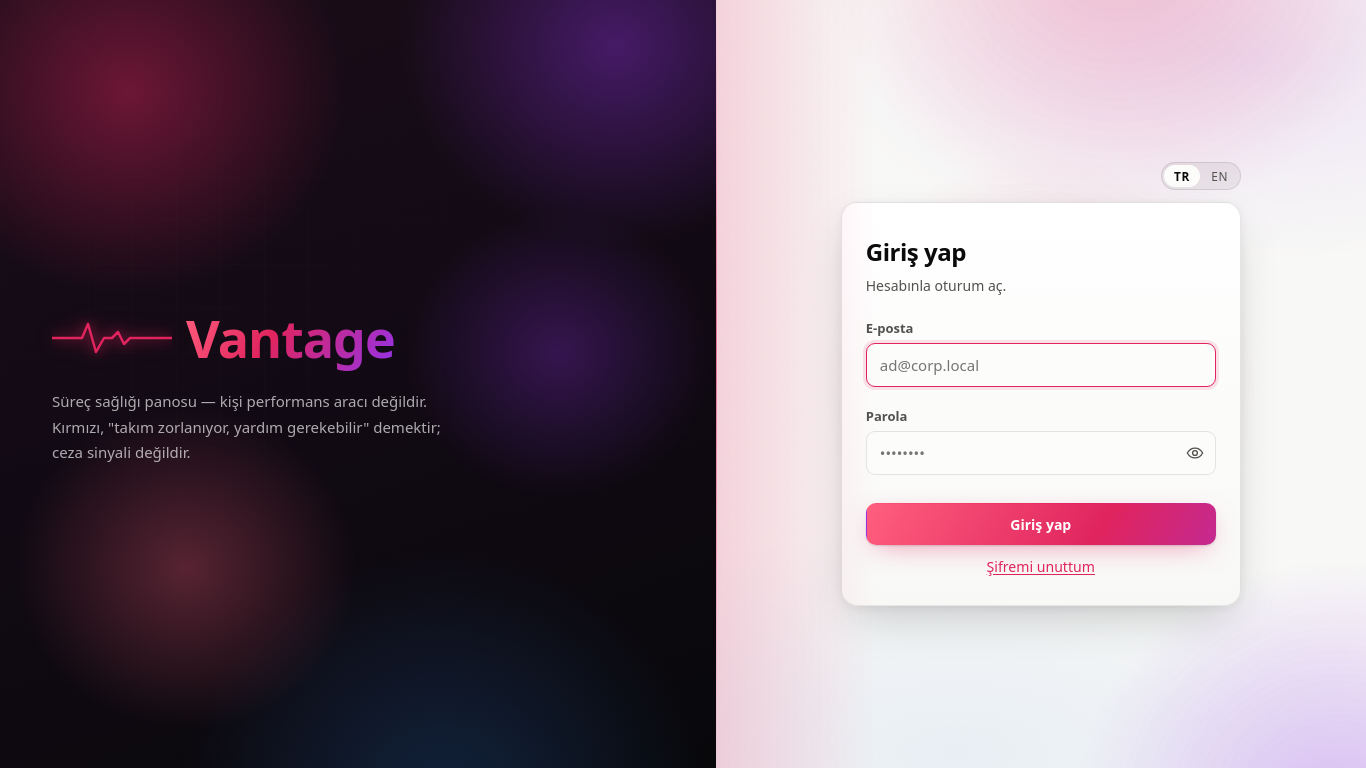
Scenario: giriş ekranı parola görünürlüğü › düğme parolayı gösterir ve tekrar gizler
This screenshot has width=1366, height=768.
Type "gizliparola" into the password field labelled "Parola" at (1041, 453), box [866,431,1216,475]
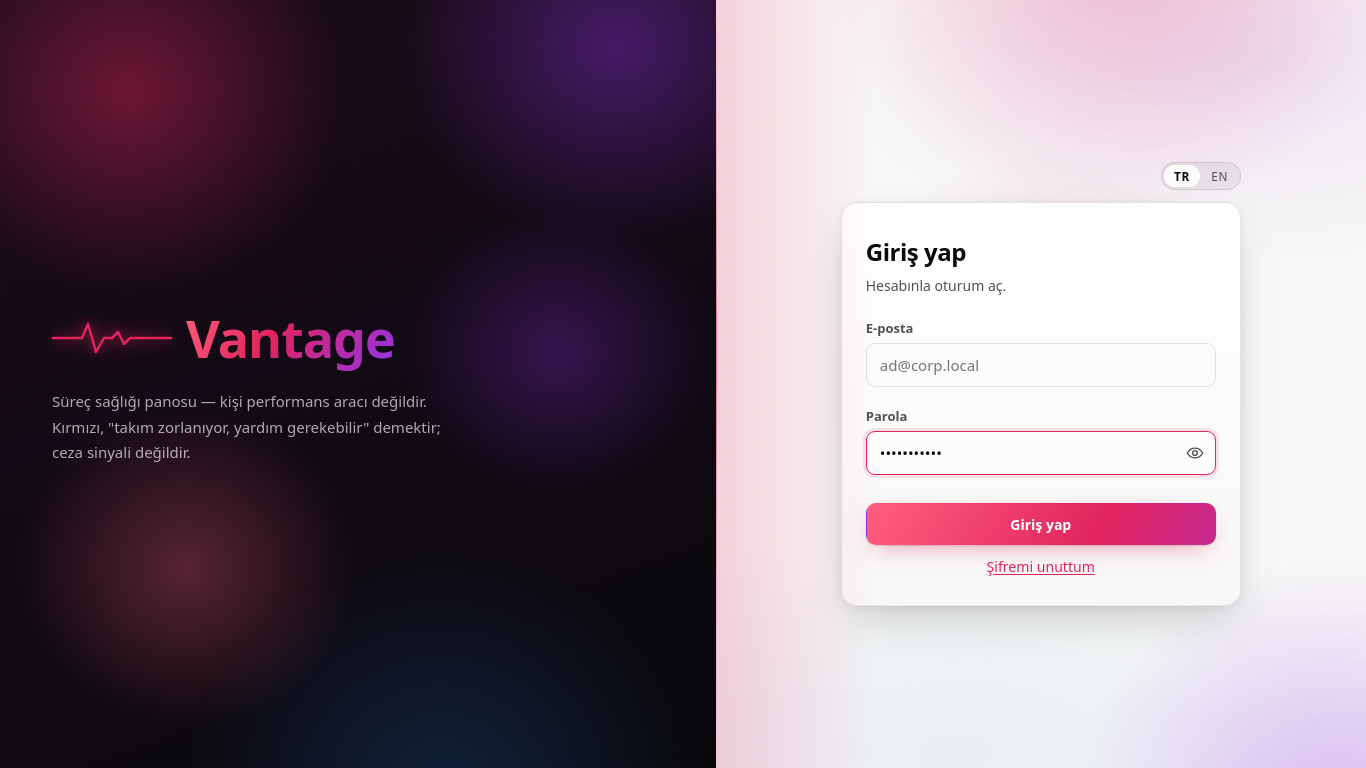
Click the button named "Parolayı göster" at (1195, 453), box [1179,437,1211,469]
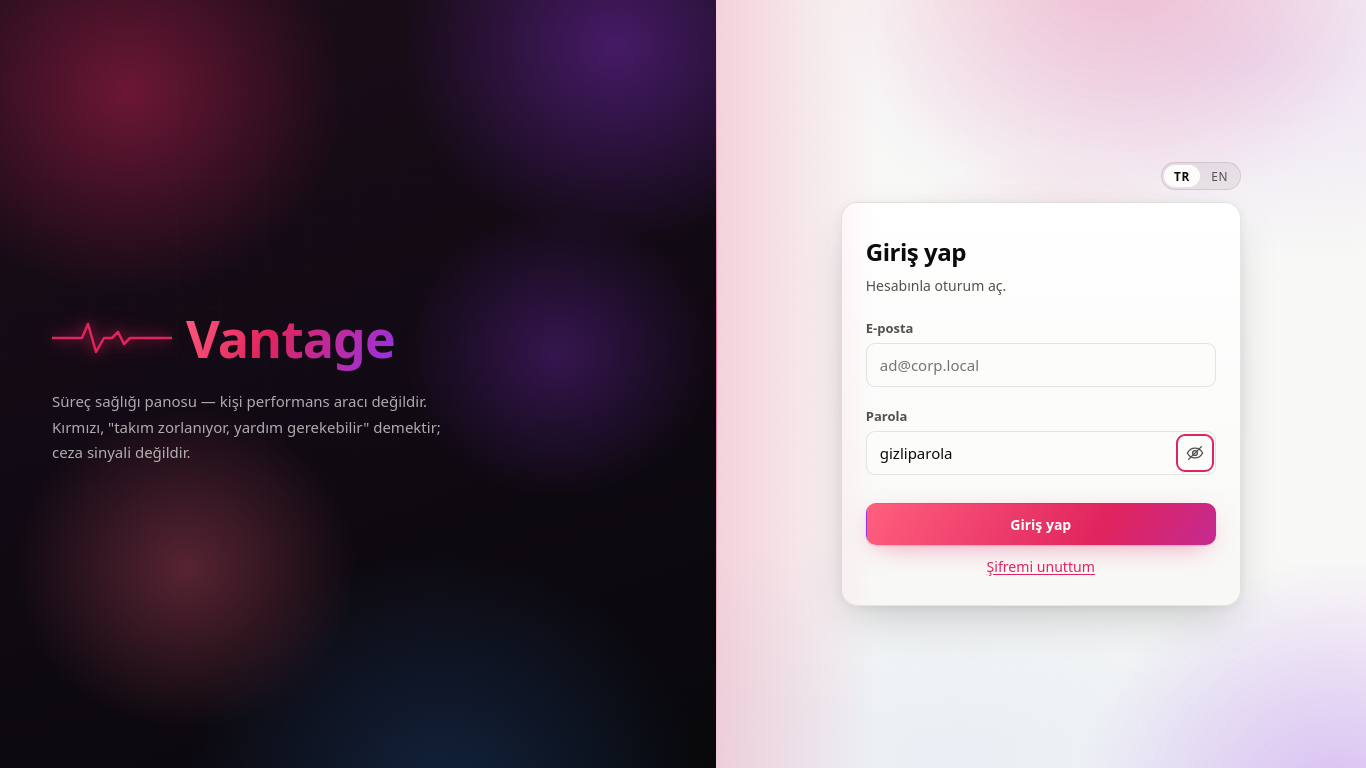
Check: the field labelled "Parola" shows its text, box [866,431,1216,475]
Click the button named "Parolayı gizle" at (1195, 453), box [1179,437,1211,469]
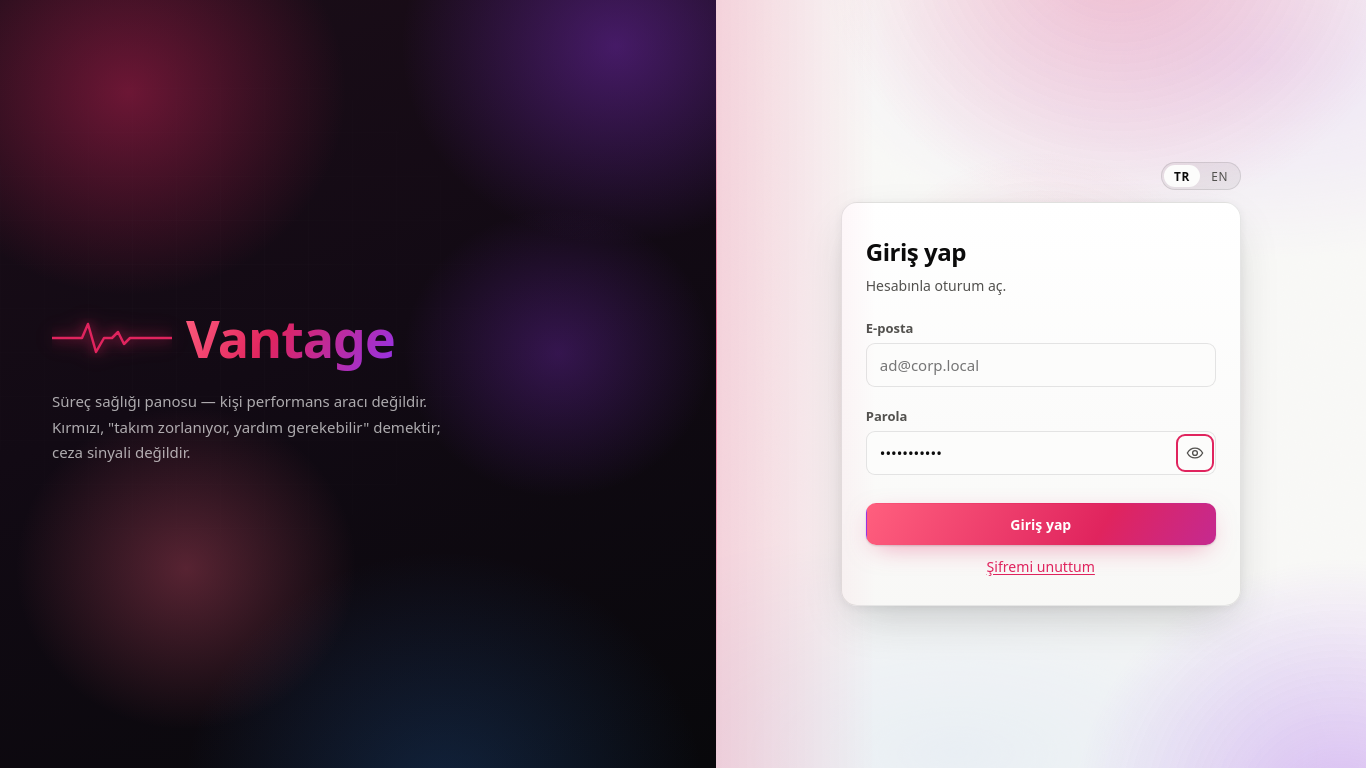
Check: the password field labelled "Parola" hides its text, box [866,431,1216,475]
